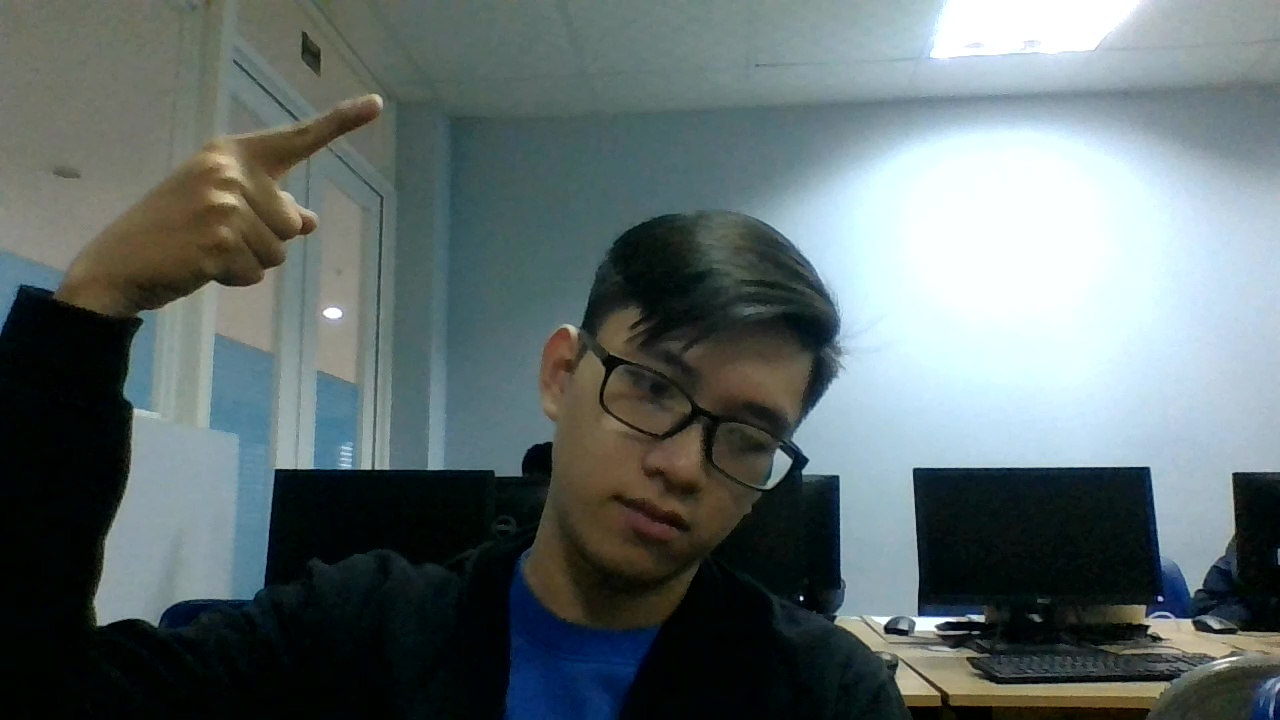left: (110, 89, 390, 311)
